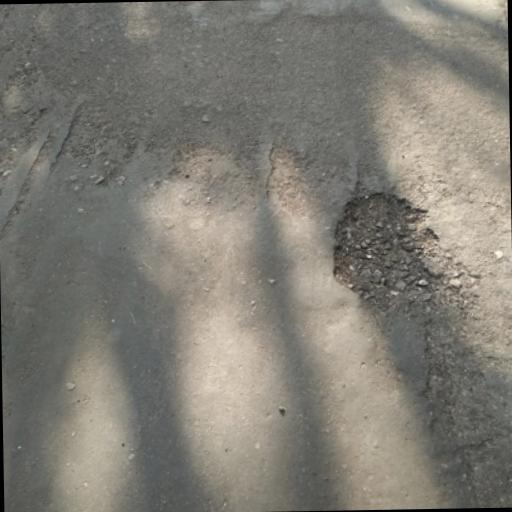pothole: (324, 186, 457, 308)
